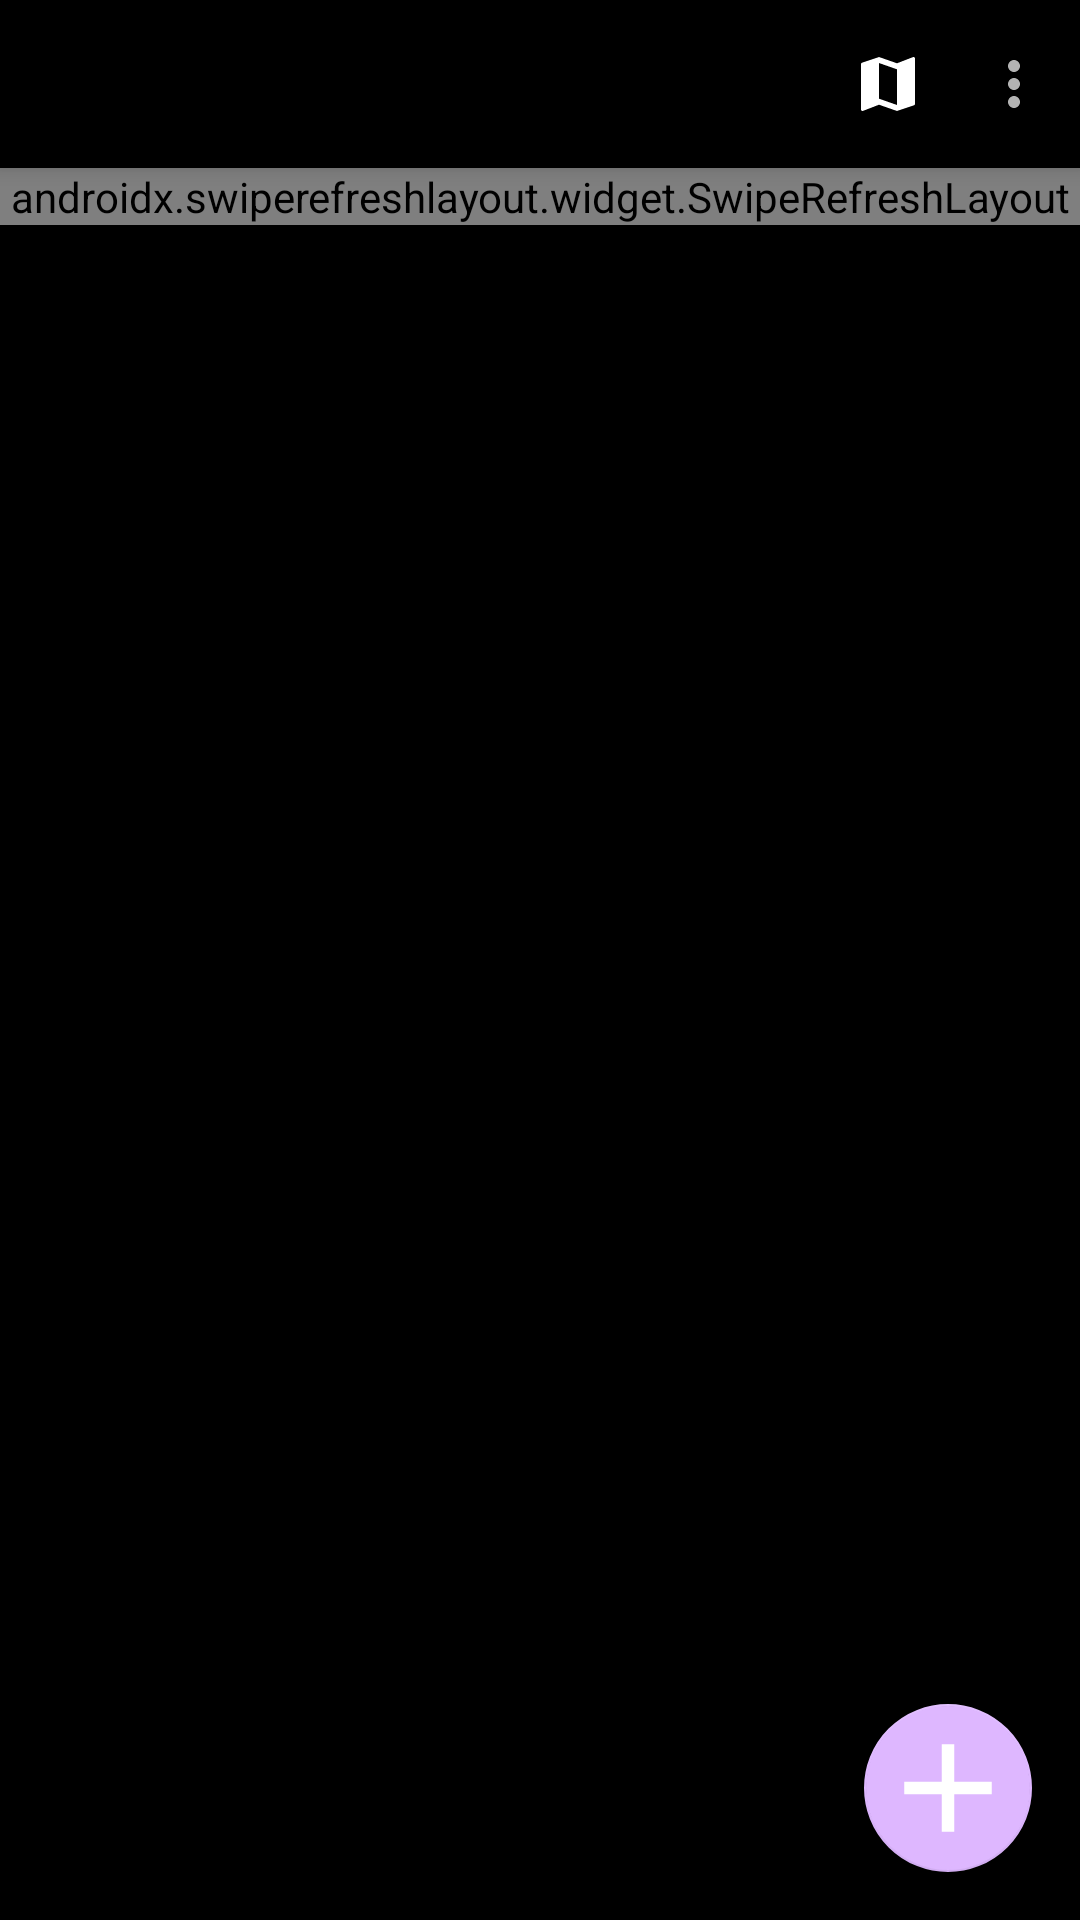

Point at icon controls on the screen. Image size 1080px×1920px, points as point (x, y).
add: point (948, 1788)
